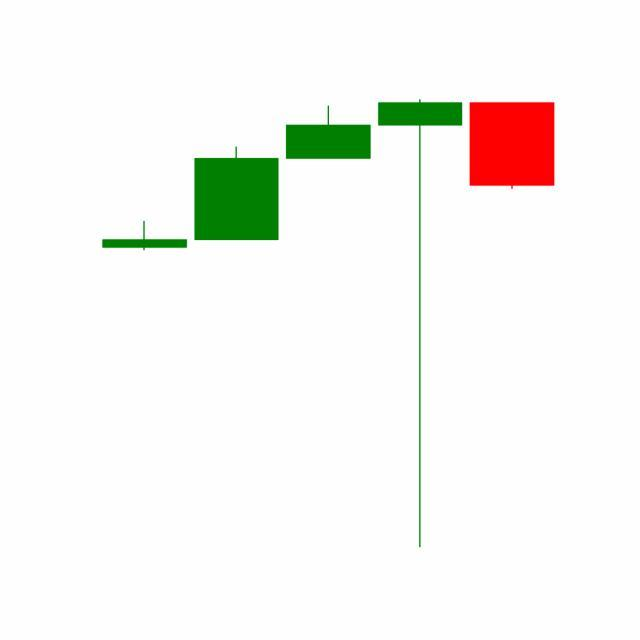Marubozu: (466, 102, 559, 192)
